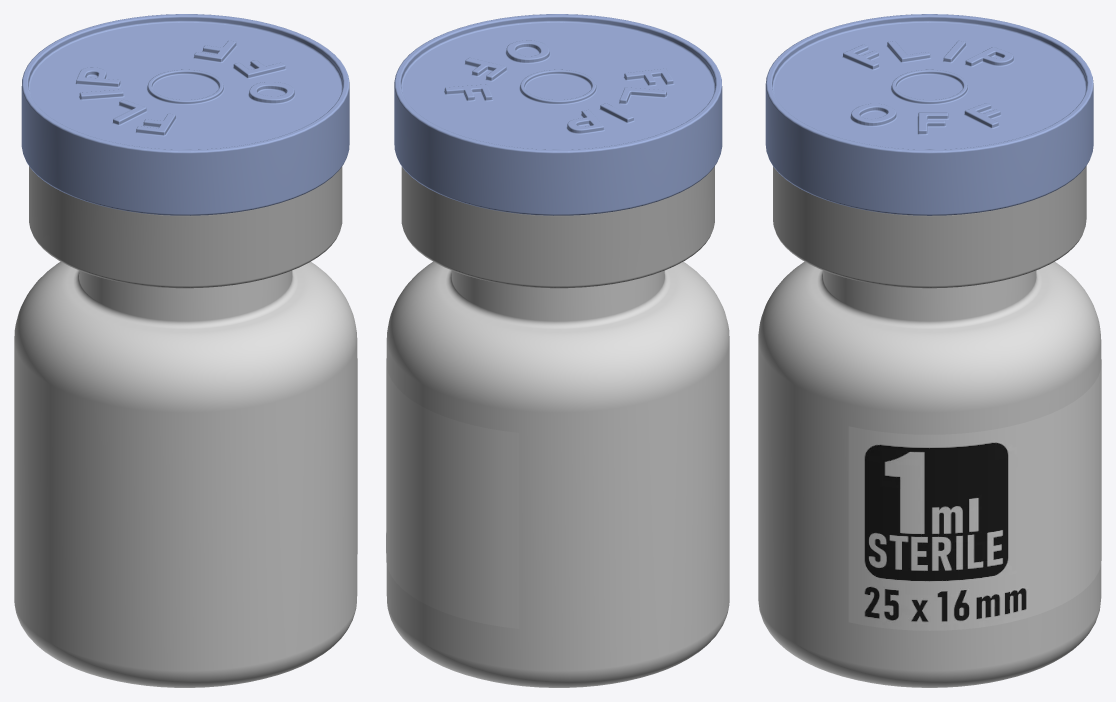
The model's file is SR-bottle_laboratory_c01.glb.
3 renders of one model, left to right at view 1: azimuth 30°, elevation 25°; view 2: azimuth 150°, elevation 25°; view 3: azimuth 270°, elevation 25°, orthographic.
Visible parts, largest first — view 1: bottle_01_mesh_00, cap_01_mesh_00; view 2: bottle_01_mesh_00, cap_01_mesh_00, decal_01_mesh_00; view 3: bottle_01_mesh_00, cap_01_mesh_00, decal_01_mesh_00.
Boxes of the visible parts, <box> form: bottle_01_mesh_00: <box>14,261,357,687</box>; cap_01_mesh_00: <box>21,14,349,288</box>; bottle_01_mesh_00: <box>386,261,729,687</box>; cap_01_mesh_00: <box>394,14,722,288</box>; decal_01_mesh_00: <box>386,358,519,628</box>; bottle_01_mesh_00: <box>758,261,1101,687</box>; cap_01_mesh_00: <box>765,14,1093,288</box>; decal_01_mesh_00: <box>848,359,1101,630</box>.
Size of the model in its own units: 0.0288 by 0.0502 by 0.0288.
Materials: 4 (2 with a texture image).
